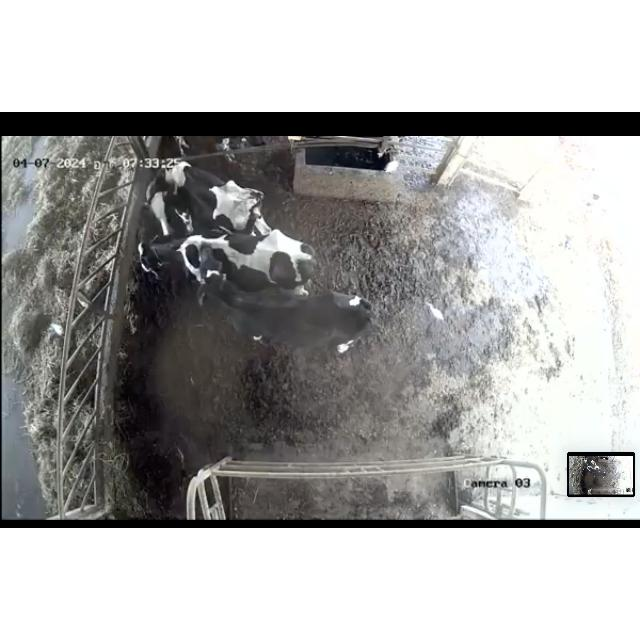propping: (185, 235, 241, 312)
